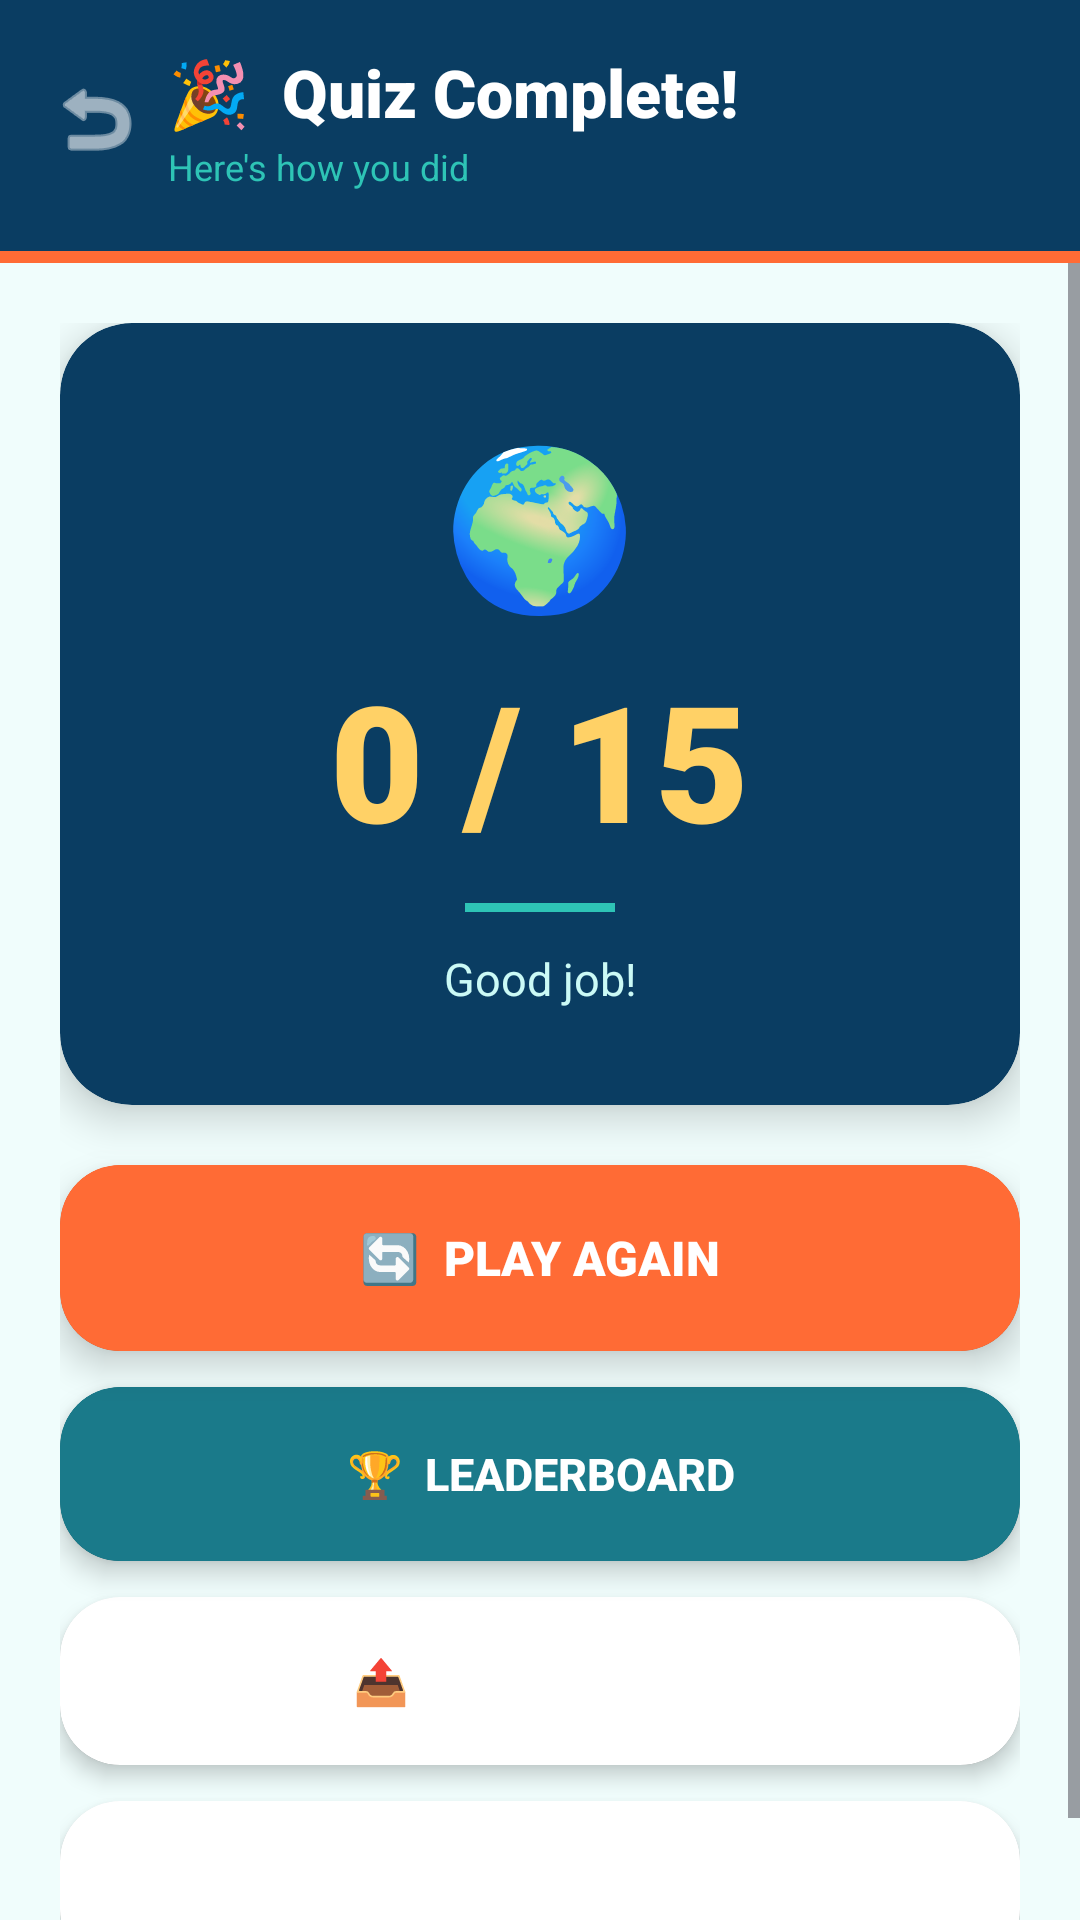

Named icons in this screenshot (1080x1920) and their centers, [x,y]:
Back: [97,119]
